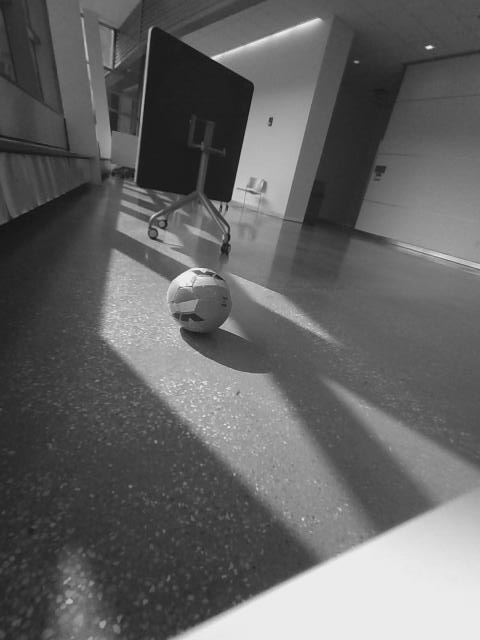ball: (164, 266, 236, 334)
